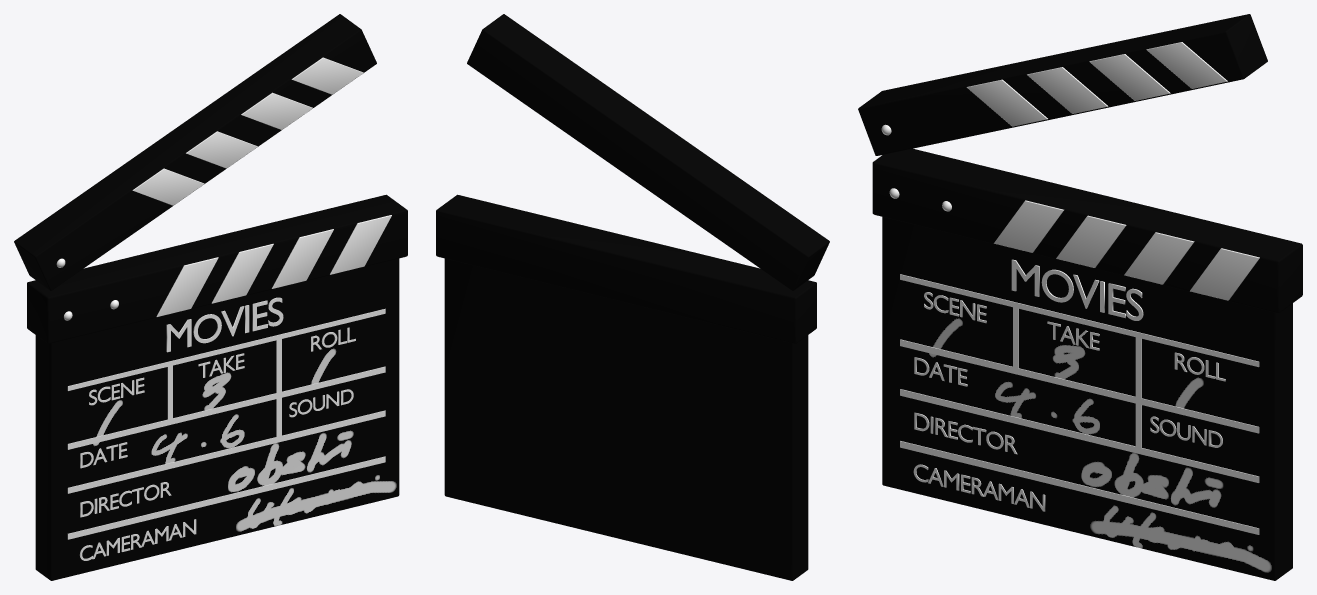
File: movies.glb
3 renders of one model, left to right at view 1: azimuth 30°, elevation 25°; view 2: azimuth 150°, elevation 25°; view 3: azimuth 330°, elevation 25°, orthographic. The views are drawn at different scales.
Visible parts, largest first — view 1: movies, head, line, body_white, head_white, Text.000, Text.004, Text.003, Text.002; view 2: movies, head; view 3: movies, head, line, body_white, head_white, Text.000, Text.004, Text.003, Text.002, Text.006.
Part boxes in pixels (<box>): movies: <box>27,194,407,580</box>; head: <box>14,14,376,290</box>; line: <box>67,308,385,539</box>; body_white: <box>156,215,391,316</box>; head_white: <box>132,57,363,205</box>; Text.000: <box>166,297,283,352</box>; Text.004: <box>79,519,196,560</box>; Text.003: <box>80,482,171,517</box>; Text.002: <box>289,389,353,417</box>; movies: <box>436,194,816,580</box>; head: <box>467,14,829,290</box>; movies: <box>872,148,1302,580</box>; head: <box>858,14,1267,155</box>; line: <box>900,274,1259,534</box>; body_white: <box>994,200,1259,300</box>; head_white: <box>966,42,1227,126</box>; Text.000: <box>1011,259,1143,320</box>; Text.004: <box>913,464,1045,511</box>; Text.003: <box>914,412,1017,454</box>; Text.002: <box>1150,416,1222,447</box>; Text.006: <box>924,292,986,323</box>.
Size of the model in its own units: 1.56 by 1.91 by 0.1696.
Materials: 3 (1 with a texture image).
